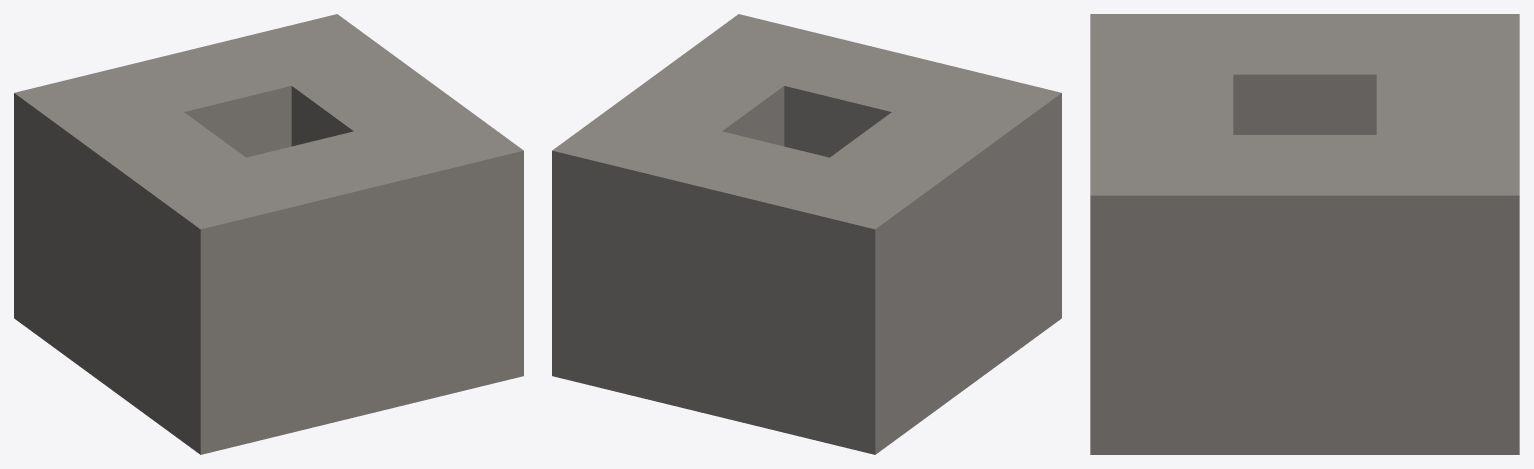
File: church-35-lanternglass.obj
3 renders of one model, left to right at view 1: azimuth 30°, elevation 25°; view 2: azimuth 150°, elevation 25°; view 3: azimuth 270°, elevation 25°, orthographic. The views are drawn at different scales.
Parts seen in each view (by area): view 1: lanternglass; view 2: lanternglass; view 3: lanternglass.
Boxes of the visible parts, left/top/right/bottom form: lanternglass: left=14, top=14, right=523, bottom=454; lanternglass: left=552, top=14, right=1061, bottom=454; lanternglass: left=1090, top=14, right=1519, bottom=454.
Size of the model in its own units: 0.3 by 0.2 by 0.3.
1 material, 1 textured.
